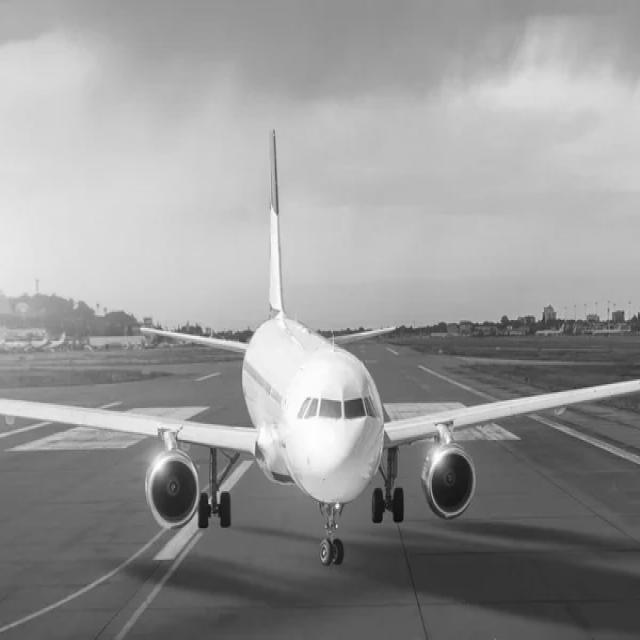Aircraft: (0, 151, 630, 571)
